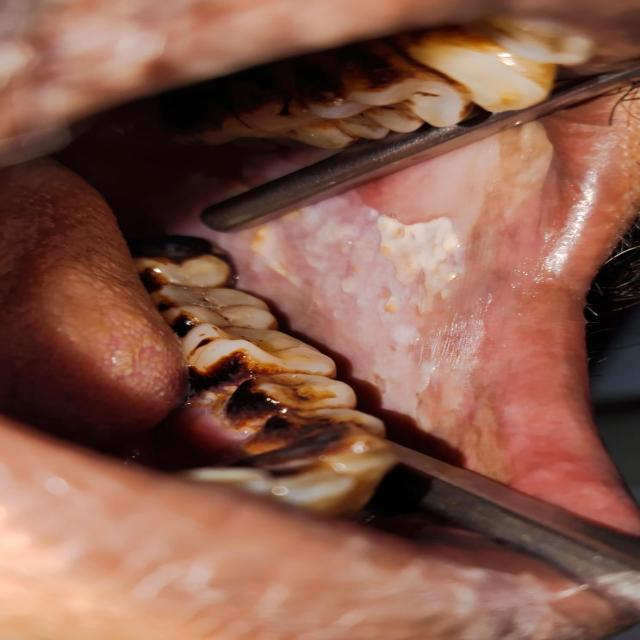leukoplakia-detection: (205, 166, 543, 445)
processing_area: (221, 118, 633, 482)
